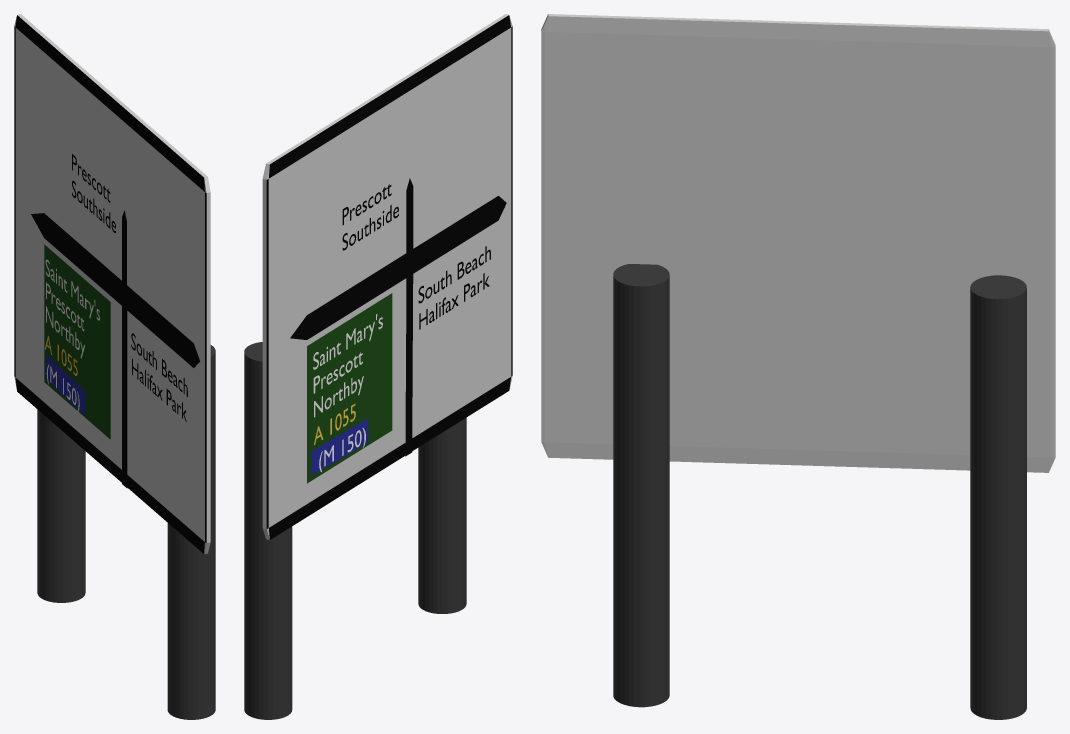
File: HalifaxParkJunctionSign4.fbx
The picture shows the model from 3 angles, left to right: view 1: azimuth 30°, elevation 25°; view 2: azimuth 150°, elevation 25°; view 3: azimuth 270°, elevation 25°; orthographic projection. The views are drawn at different scales.
Visible parts, largest first — view 1: Cube.030, Cylinder.001, Cylinder.002, Plane, DirectionPlaneM, Text.004, Plane.001, Text.001, Text.002, Text.005; view 2: Cube.030, Cylinder.002, Plane, Cylinder.001, DirectionPlaneM, Plane.001, Text.004, Text.001, Text.002; view 3: Cube.030, Cylinder.002, Cylinder.001.
Boxes of the visible parts, box(x1,y1,x2,y2) form: Cube.030: box(14, 14, 210, 554); Cylinder.001: box(167, 345, 215, 719); Cylinder.002: box(37, 409, 85, 602); Plane: box(44, 244, 110, 439); DirectionPlaneM: box(31, 210, 200, 488); Text.004: box(45, 259, 99, 358); Plane.001: box(46, 355, 85, 415); Text.001: box(131, 333, 187, 396); Text.002: box(132, 358, 186, 421); Text.005: box(72, 180, 115, 232); Cube.030: box(262, 14, 512, 540); Cylinder.002: box(244, 342, 292, 719); Plane: box(307, 293, 392, 483); Cylinder.001: box(418, 417, 466, 613); DirectionPlaneM: box(290, 178, 506, 456); Plane.001: box(312, 418, 368, 475); Text.004: box(313, 314, 382, 417); Text.001: box(418, 246, 490, 303); Text.002: box(419, 273, 489, 329); Cube.030: box(541, 14, 1055, 472); Cylinder.002: box(970, 275, 1026, 719); Cylinder.001: box(613, 264, 669, 707).
Bounding box in the file's own units: 108 × 824 × 577.
